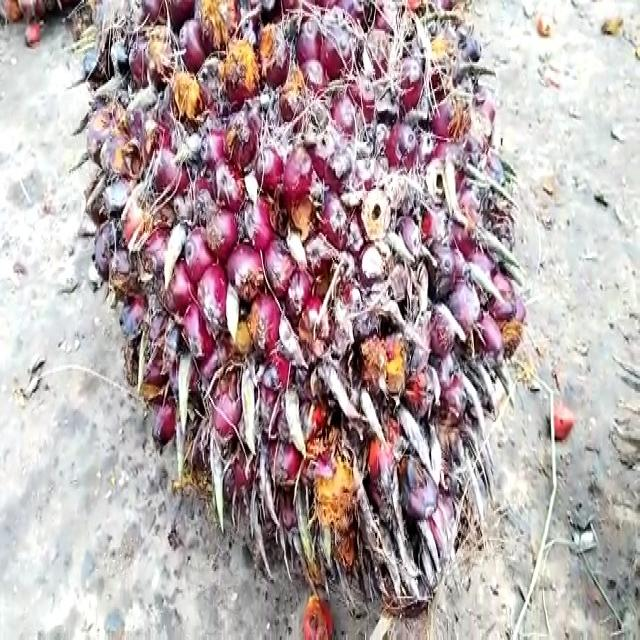palm oil: (81, 0, 531, 611)
